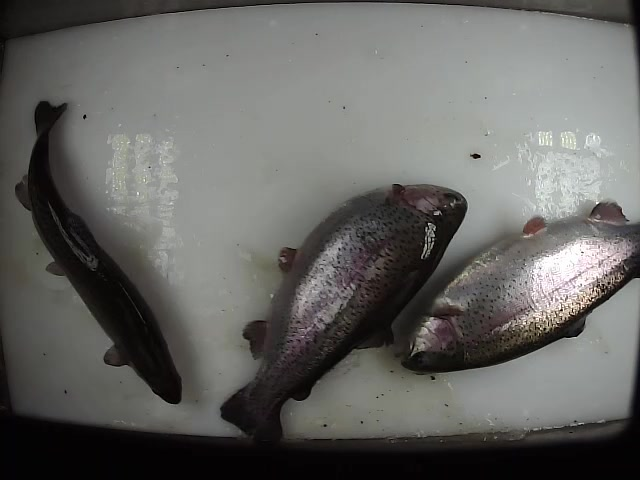fish: (219, 180, 471, 444), (13, 96, 184, 406), (401, 196, 640, 376)
